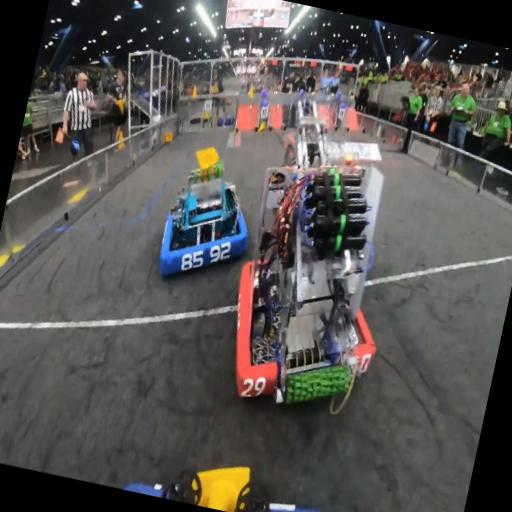robot: (214, 92, 425, 432), (154, 152, 264, 294)
